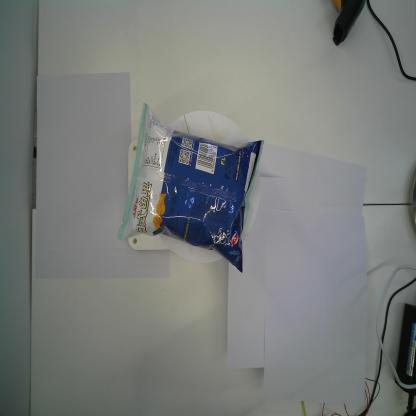Puffed Food: (116, 102, 265, 274)
